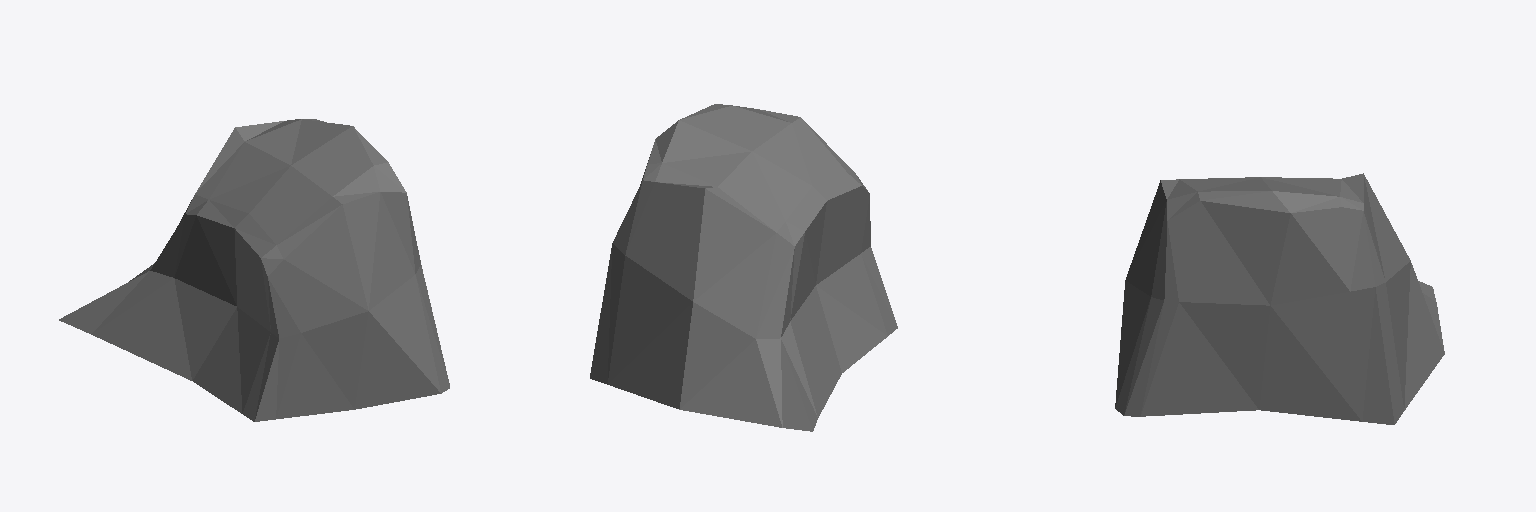
The model's file is rock1.obj.
3 renders of one model, left to right at view 1: azimuth 30°, elevation 25°; view 2: azimuth 150°, elevation 25°; view 3: azimuth 270°, elevation 25°, orthographic.
Parts seen in each view (by area): view 1: rock1:pCube1; view 2: rock1:pCube1; view 3: rock1:pCube1.
Boxes of the visible parts, <box> form: rock1:pCube1: <box>59,119,449,421</box>; rock1:pCube1: <box>590,104,897,431</box>; rock1:pCube1: <box>1115,173,1444,424</box>.
Bounding box in the file's own units: 59.98 × 52.06 × 70.5.